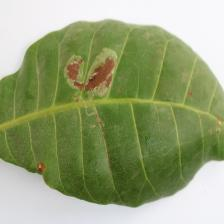leaf miner: (0, 18, 224, 208)
